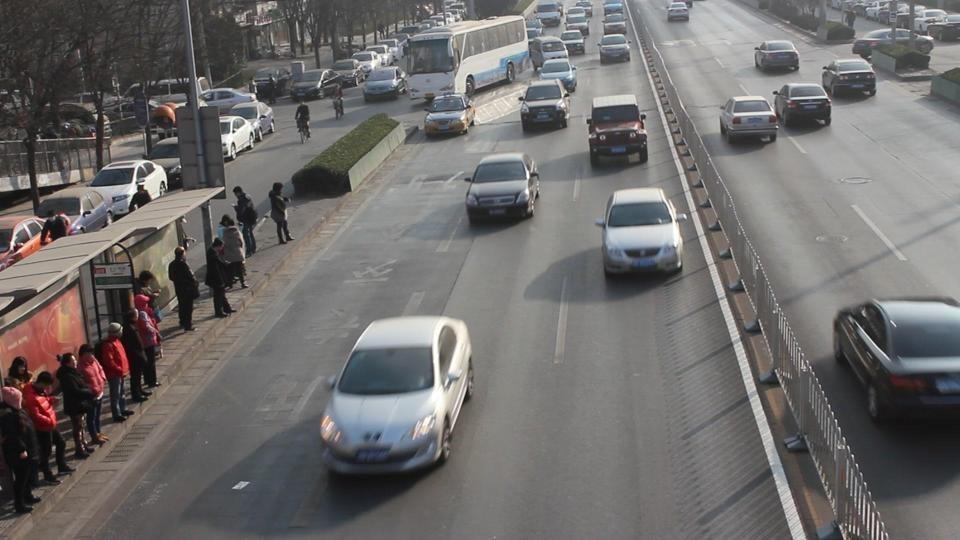car: (319, 314, 475, 477), (832, 297, 959, 425), (595, 187, 683, 275), (464, 152, 541, 224), (719, 89, 834, 137), (585, 92, 650, 168), (86, 160, 167, 218), (202, 89, 277, 137), (0, 214, 65, 268), (35, 188, 111, 234), (718, 95, 779, 145), (770, 82, 832, 129), (518, 79, 571, 132), (201, 111, 257, 160), (821, 57, 878, 101), (423, 92, 477, 138), (147, 138, 185, 191), (362, 66, 408, 102), (291, 68, 341, 101), (753, 40, 800, 74), (537, 59, 578, 94), (326, 60, 363, 88), (598, 33, 630, 64), (559, 31, 586, 55), (665, 1, 691, 22)
